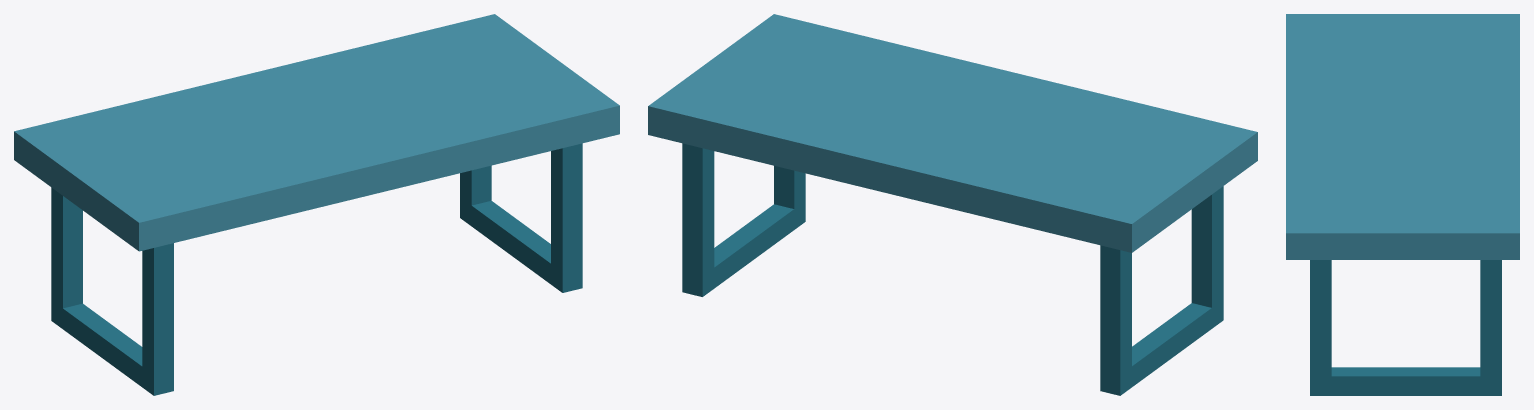
File: table02.fbx
The picture shows the model from 3 angles, left to right: view 1: azimuth 30°, elevation 25°; view 2: azimuth 150°, elevation 25°; view 3: azimuth 270°, elevation 25°; orthographic projection. The views are drawn at different scales.
Visible parts, largest first — view 1: polySurface177; view 2: polySurface177; view 3: polySurface177.
Part boxes in pixels (x1,y1,x2,y2): polySurface177: (14,14,619,395); polySurface177: (648,14,1257,395); polySurface177: (1286,14,1519,395).
Size of the model in its own units: 35.25 by 13.04 by 15.89.
1 material, 1 textured.
